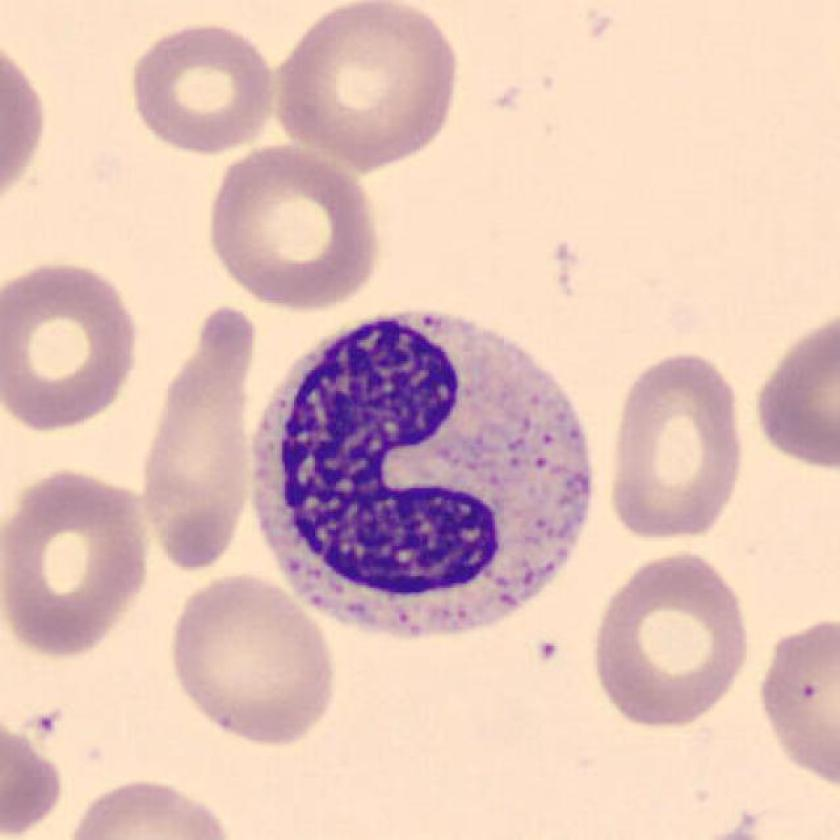neutrophil: (252, 312, 592, 638)
